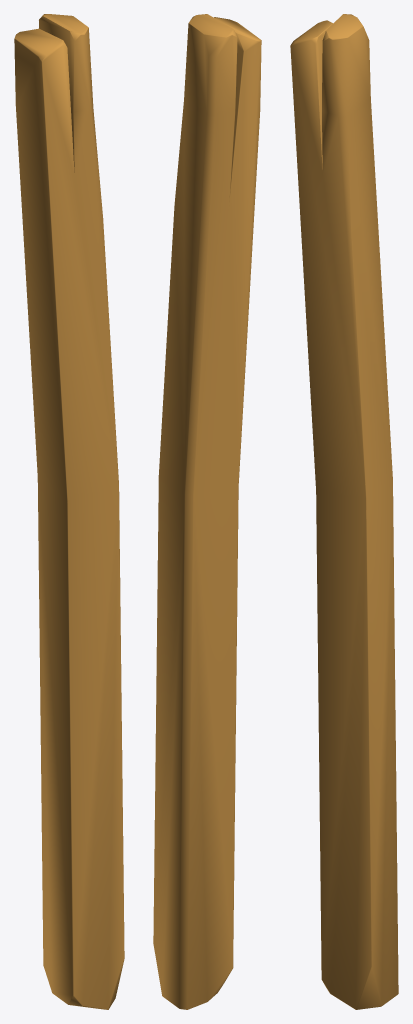
File: Module_Timber_Support_LOD01.fbx
3 views of the same model, side by side, from view 1: azimuth 30°, elevation 25°; view 2: azimuth 210°, elevation 25°; view 3: azimuth 330°, elevation 25° (orthographic).
Parts seen in each view (by area): view 1: Module_Timber_Support_LOD01_Geometry; view 2: Module_Timber_Support_LOD01_Geometry; view 3: Module_Timber_Support_LOD01_Geometry.
Boxes of the visible parts, x1=… form: Module_Timber_Support_LOD01_Geometry: x1=14, y1=14, x2=124, y2=1009; Module_Timber_Support_LOD01_Geometry: x1=153, y1=14, x2=261, y2=1009; Module_Timber_Support_LOD01_Geometry: x1=290, y1=14, x2=398, y2=1009.
Bounding box in the file's own units: 0.4352 × 4.91 × 0.2712.
